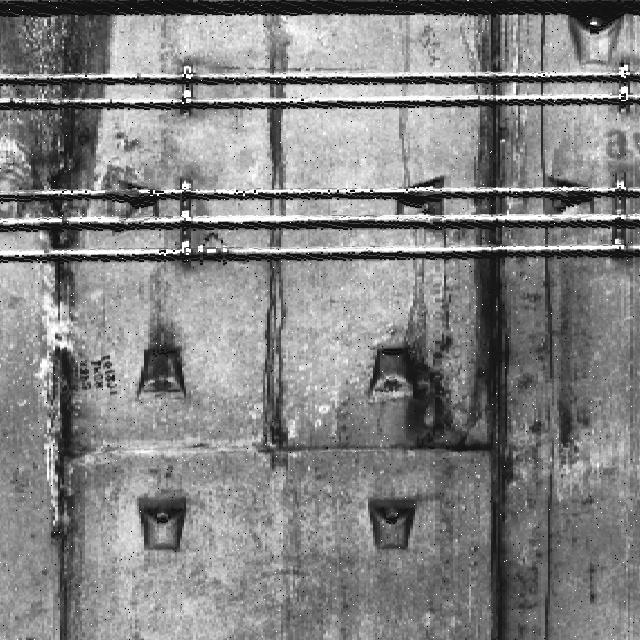leakage: (0, 9, 118, 616), (467, 11, 517, 640), (245, 8, 297, 461), (404, 256, 454, 451), (391, 13, 416, 193)
